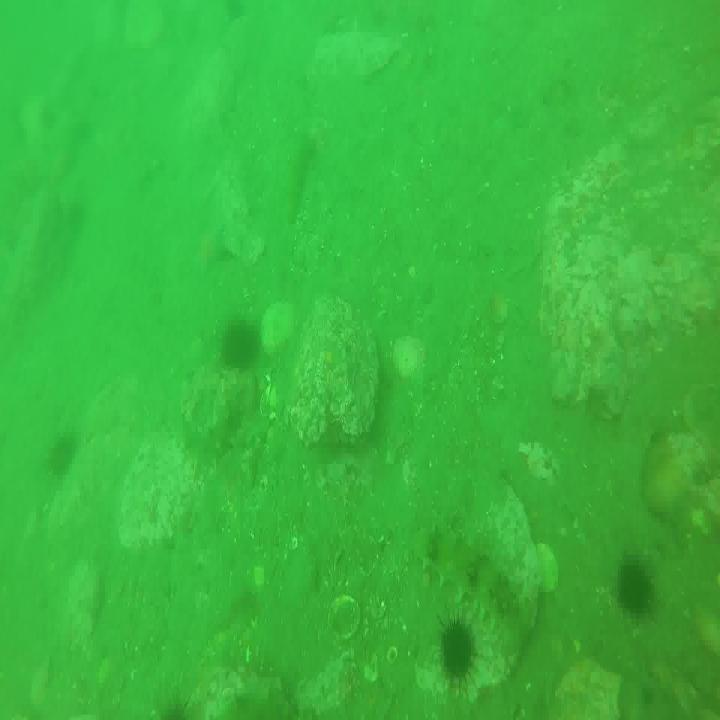echinus: (436, 613, 477, 681), (618, 551, 653, 623), (45, 431, 81, 483), (221, 321, 260, 367)
holothurian: (415, 530, 517, 625)
